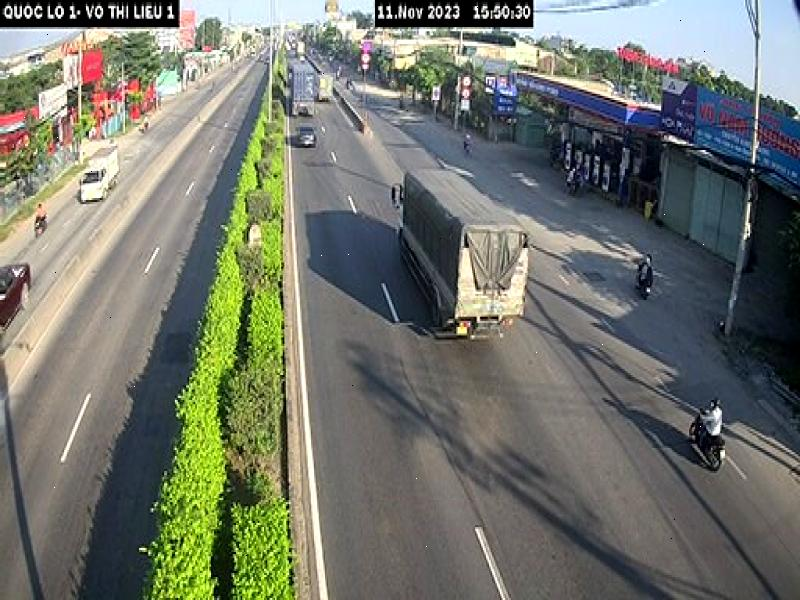truck: (398, 168, 531, 353), (74, 141, 125, 205)
